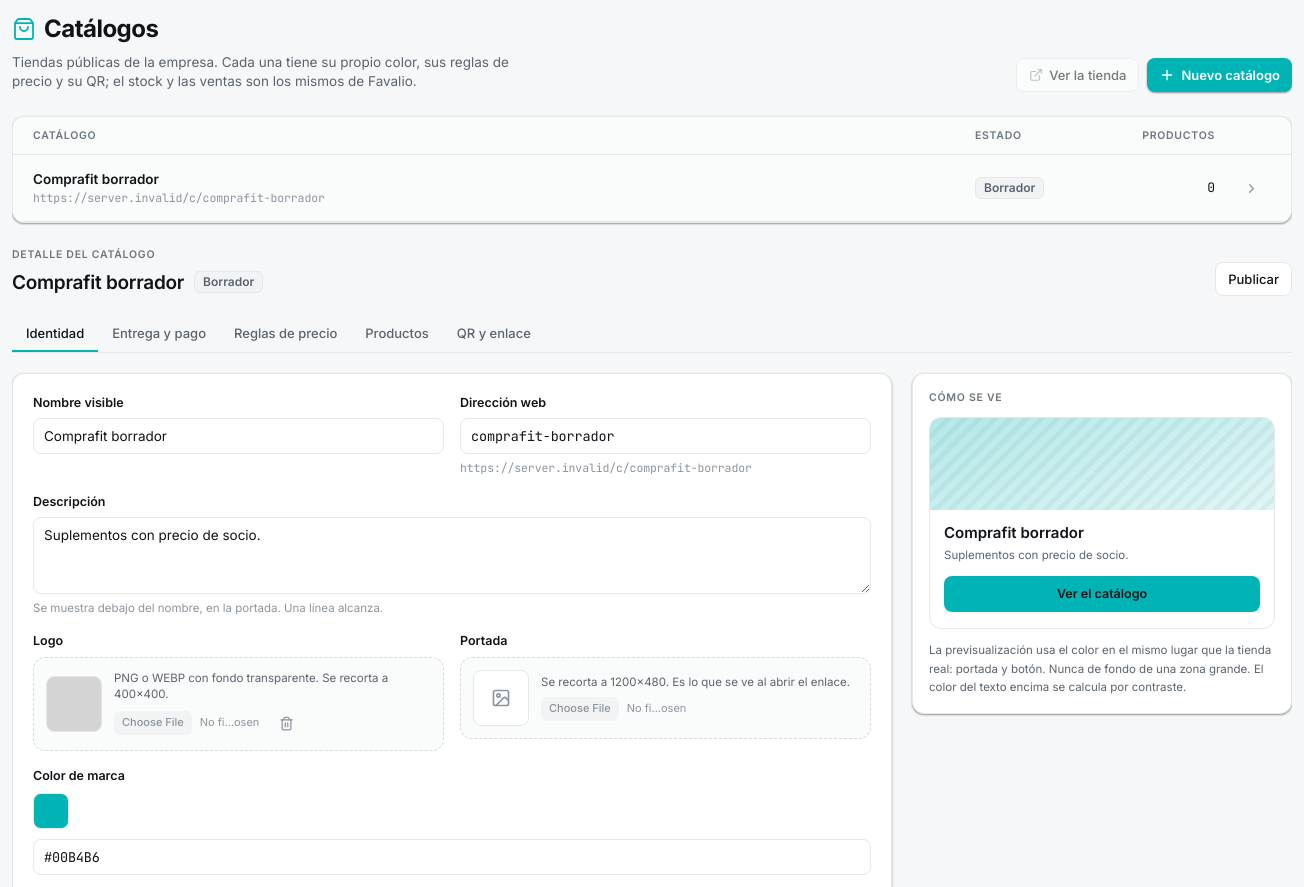
La pantalla de Catálogos y su lugar en el menú › lo que falta para publicar se dibuja como LISTA, renglón por renglón
Click the button "Publicar".
click(1254, 279)  # box [1215,262,1292,296]
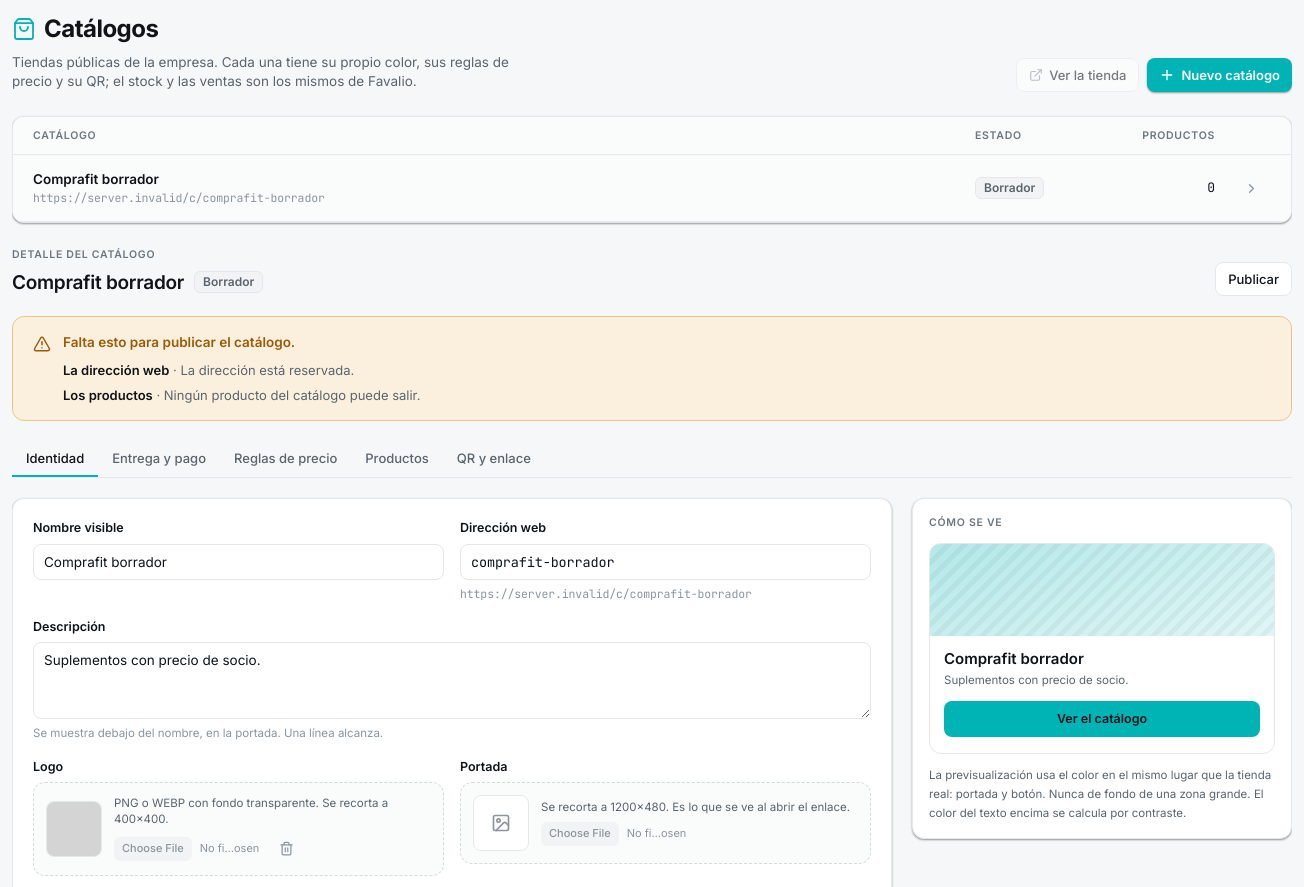
Expected: the number of list items is 2, [63,362,354,378]; [63,386,420,404]
Expected: the message shows "La dirección está reservada.", [180,362,354,378]
Expected: the message shows "Ningún producto del catálogo puede salir.", [164,386,420,402]
